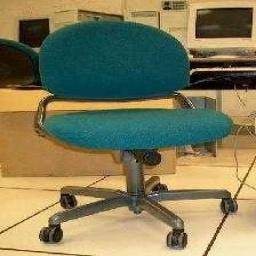Chair: (38, 19, 237, 245)
